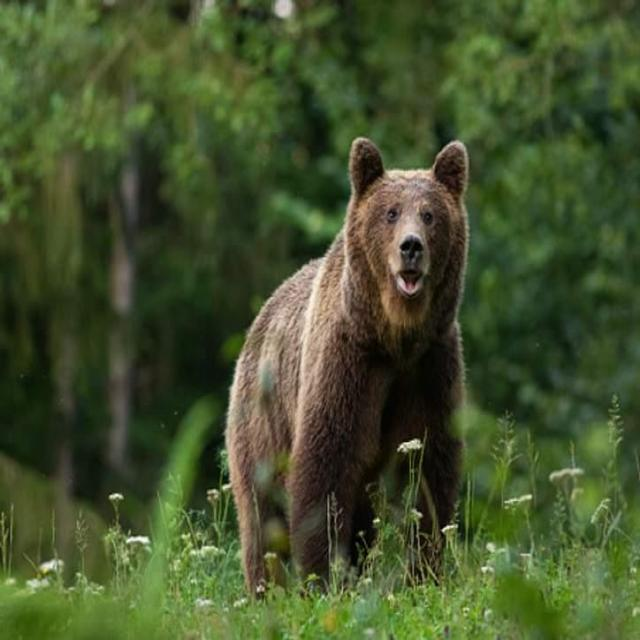Bear: (225, 138, 470, 601)
